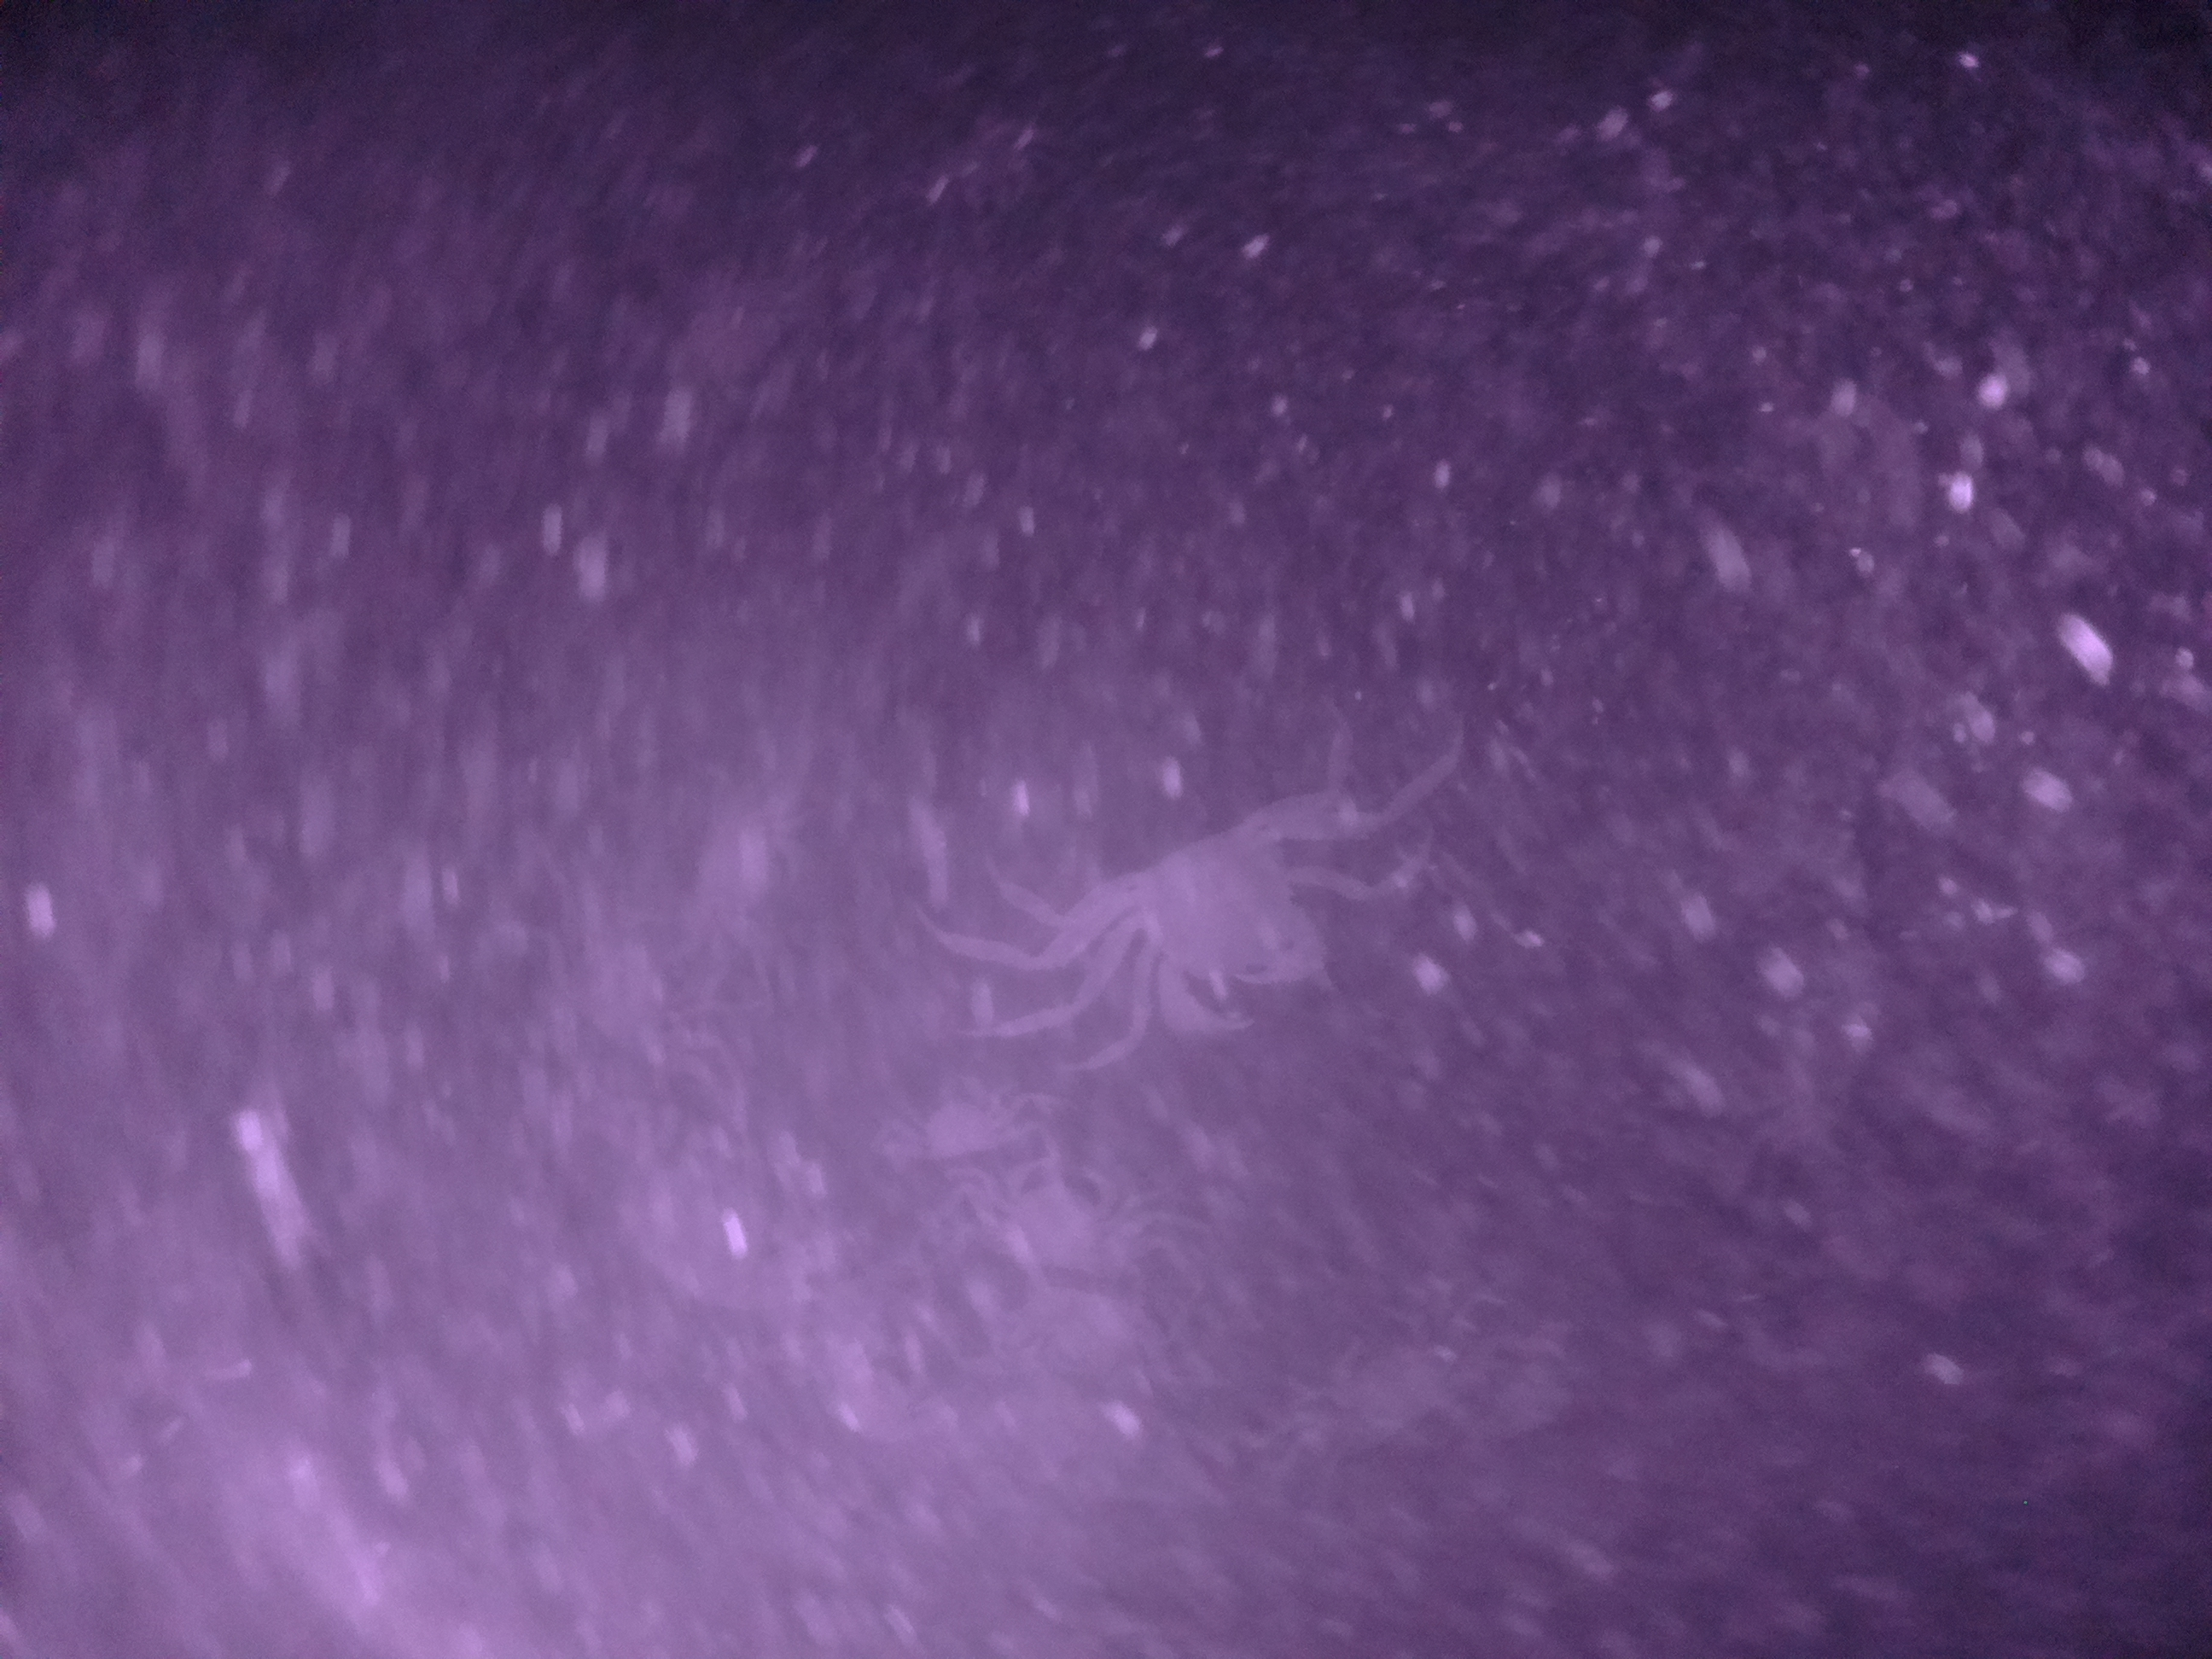Crab: (1054, 763, 1378, 1063)
